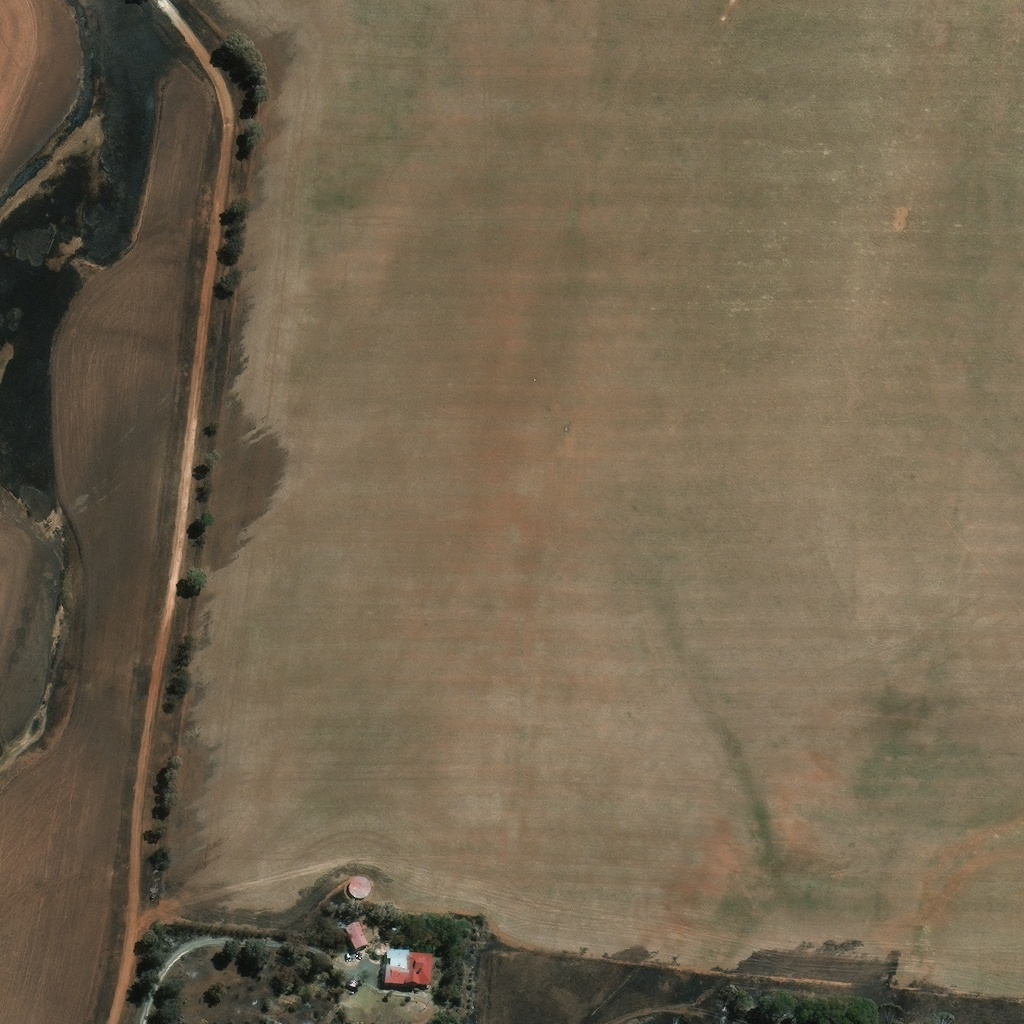0 no-damage: (383, 955, 432, 993), (343, 925, 369, 954), (347, 879, 371, 902)
4 un-classified: (411, 1008, 418, 1015)
